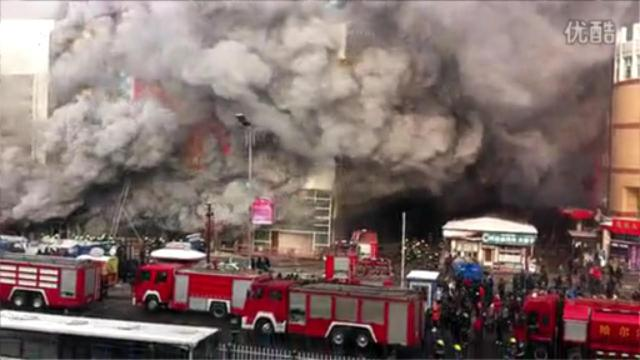smoke: (130, 4, 566, 80), (212, 81, 608, 126), (276, 127, 488, 195), (54, 107, 128, 219), (53, 3, 129, 105), (145, 174, 251, 236), (495, 130, 565, 200), (1, 132, 51, 226), (132, 102, 172, 172)
